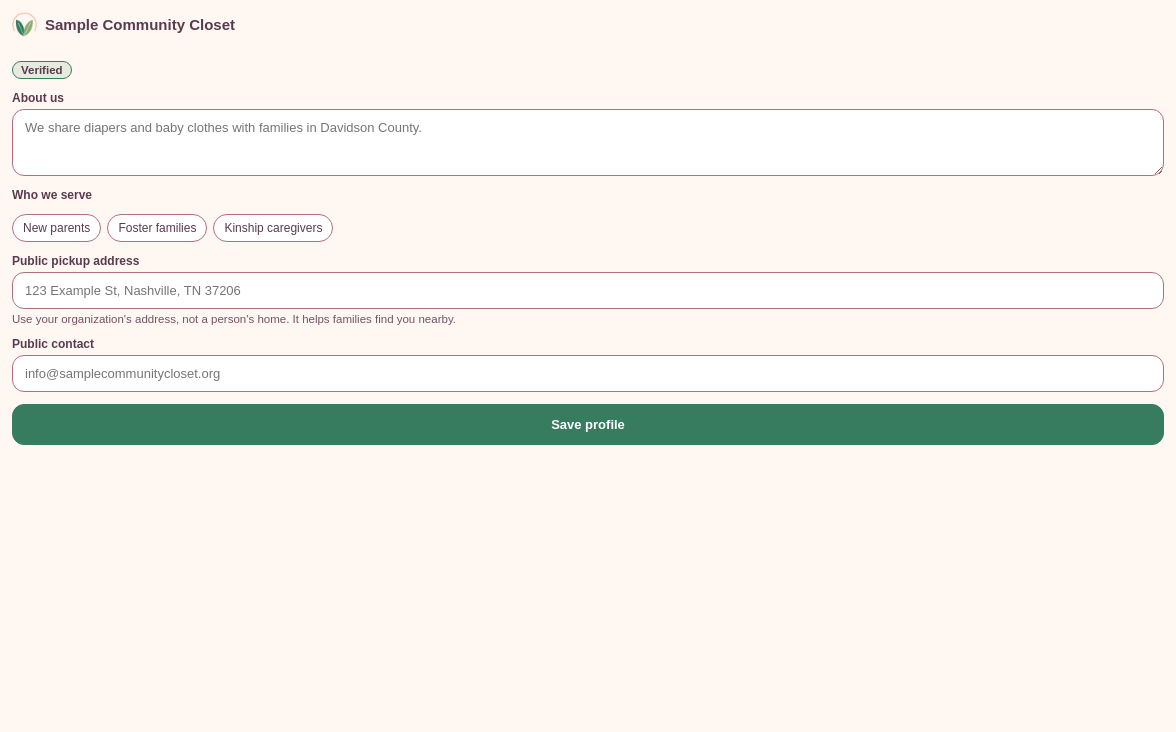
Test: OrgProfilePage › keeps the answers and shows the errors when saving fails
Type "123 Example St, Nashville" into the field labelled "Public pickup address" at (588, 290), box [12,272,1164,309]
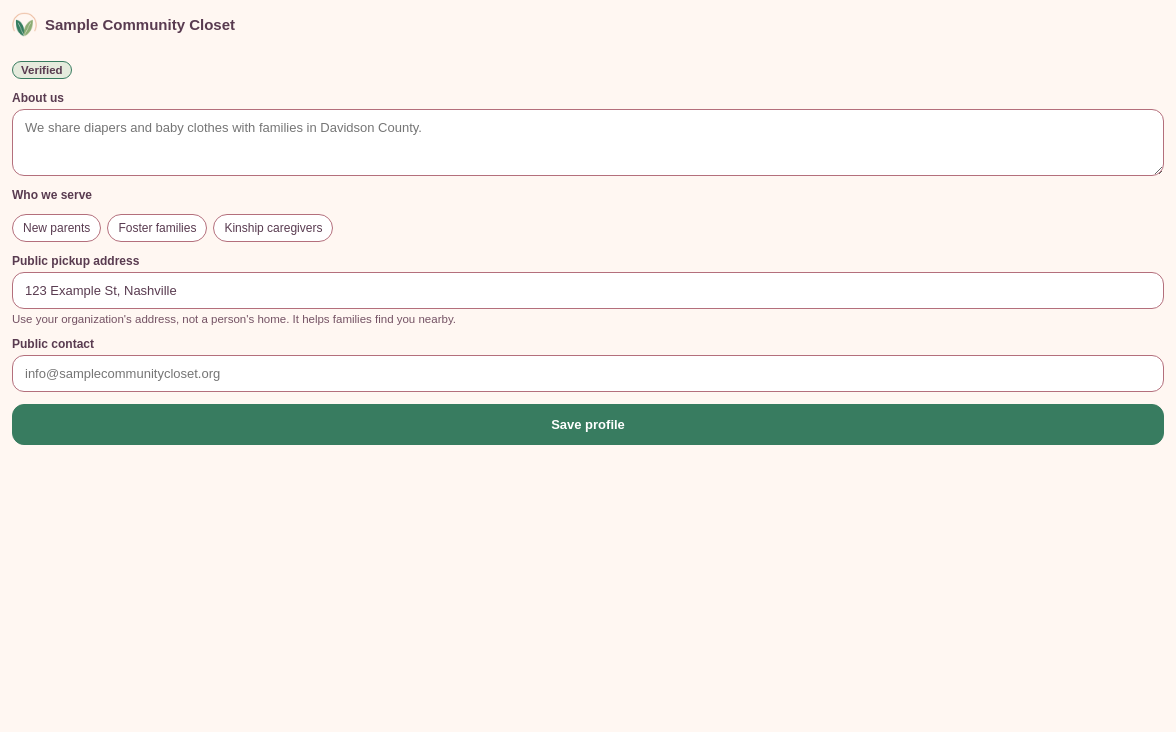
Click the button "Save profile" at (588, 424), box [12,404,1164,445]
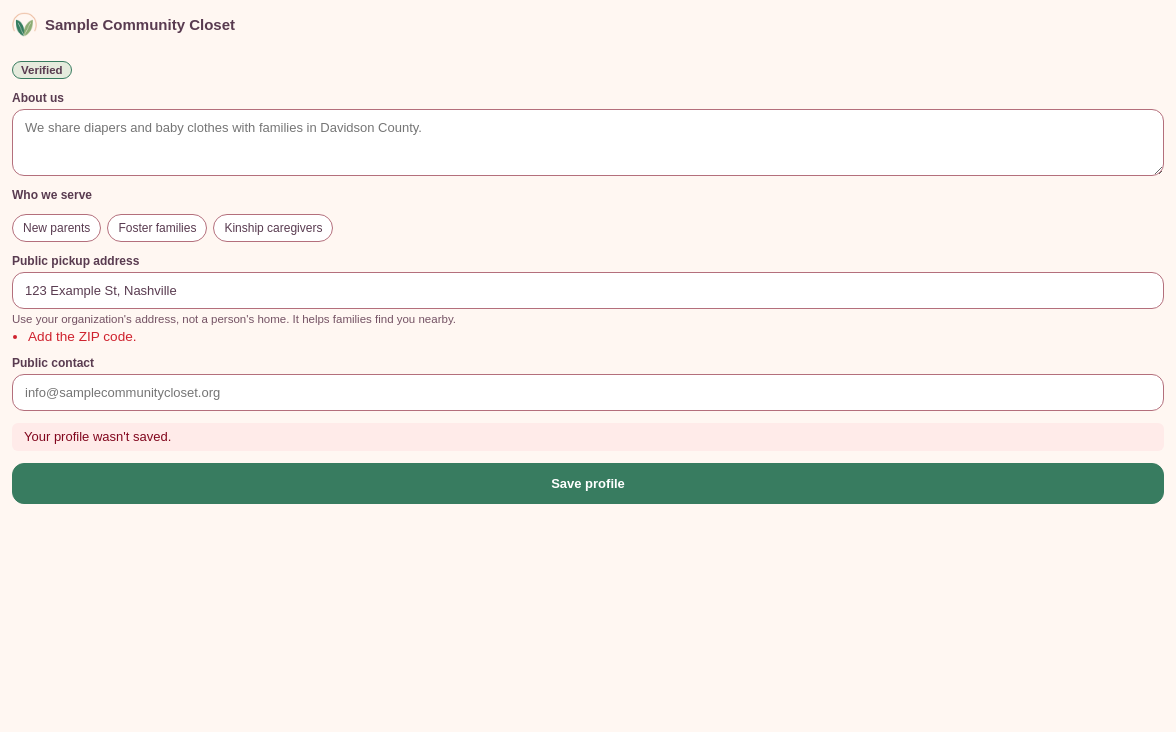
Now the text "Your profile wasn't saved." is shown, box [12,423,1164,451]
Now the list item "Add the ZIP code." is shown, box [28,329,137,344]
